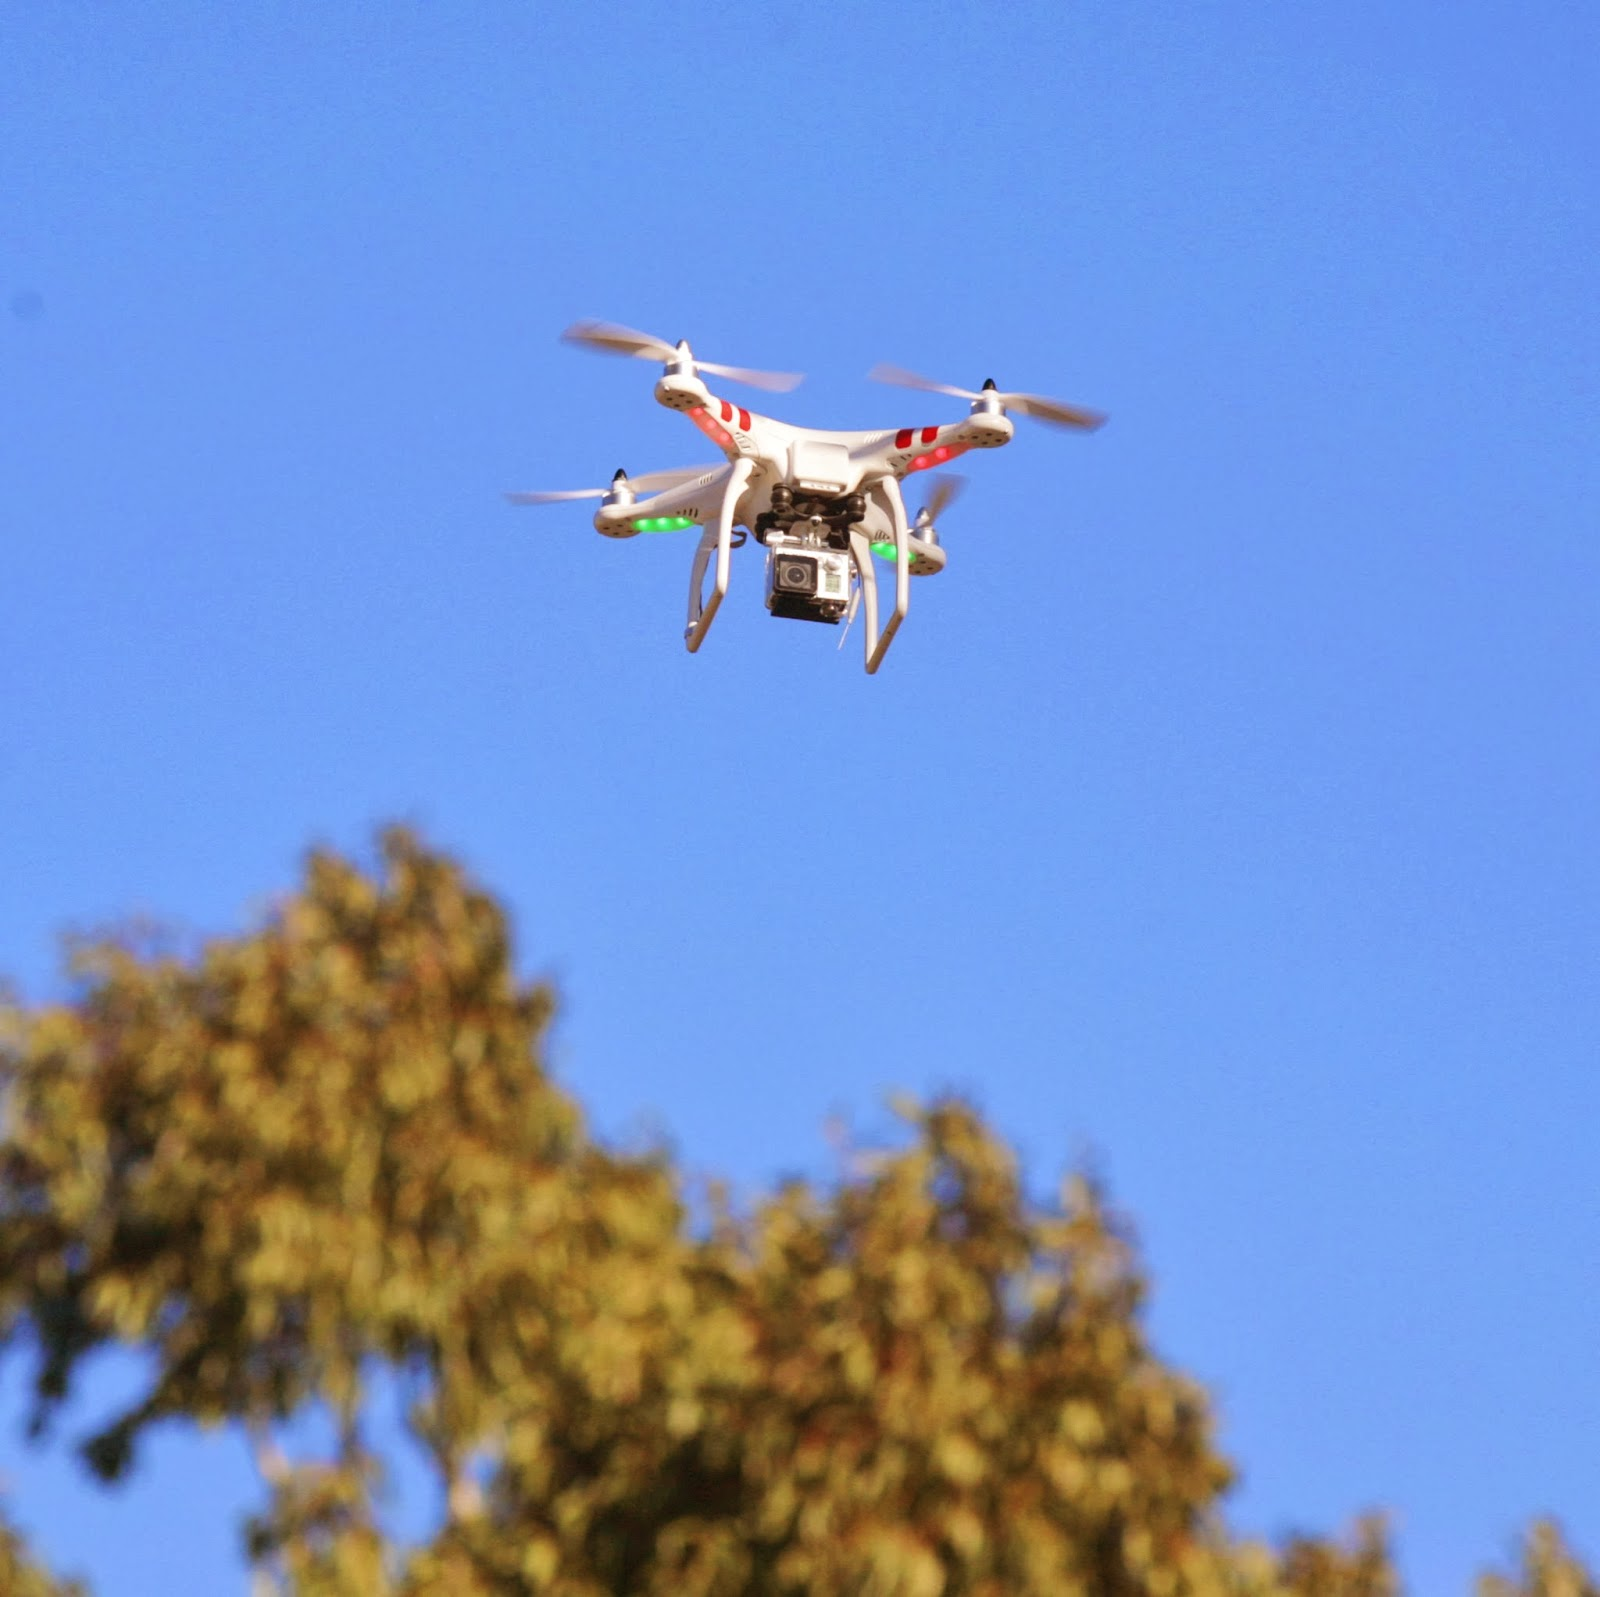drone: (499, 312, 1120, 683)
